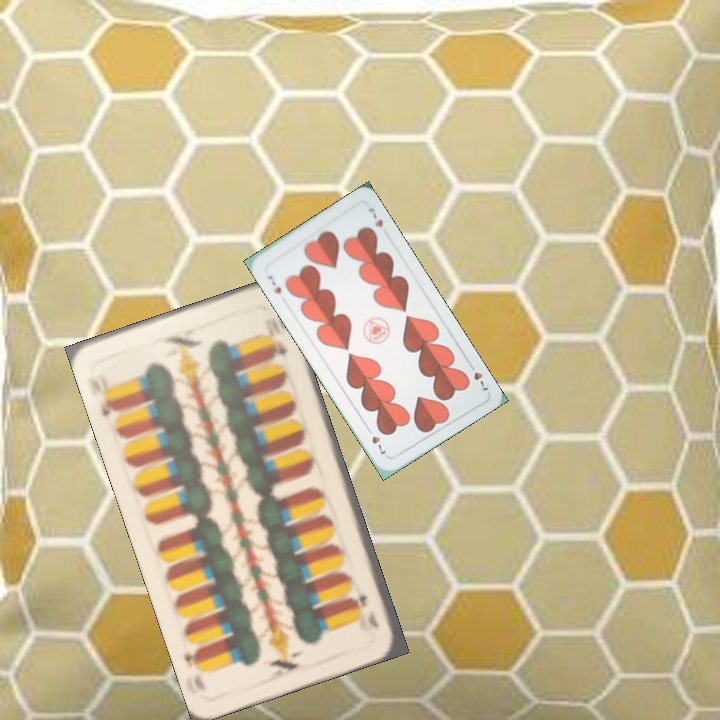E10: (91, 369, 122, 420), (354, 590, 381, 632)
H7: (464, 358, 491, 394), (263, 271, 284, 296)
